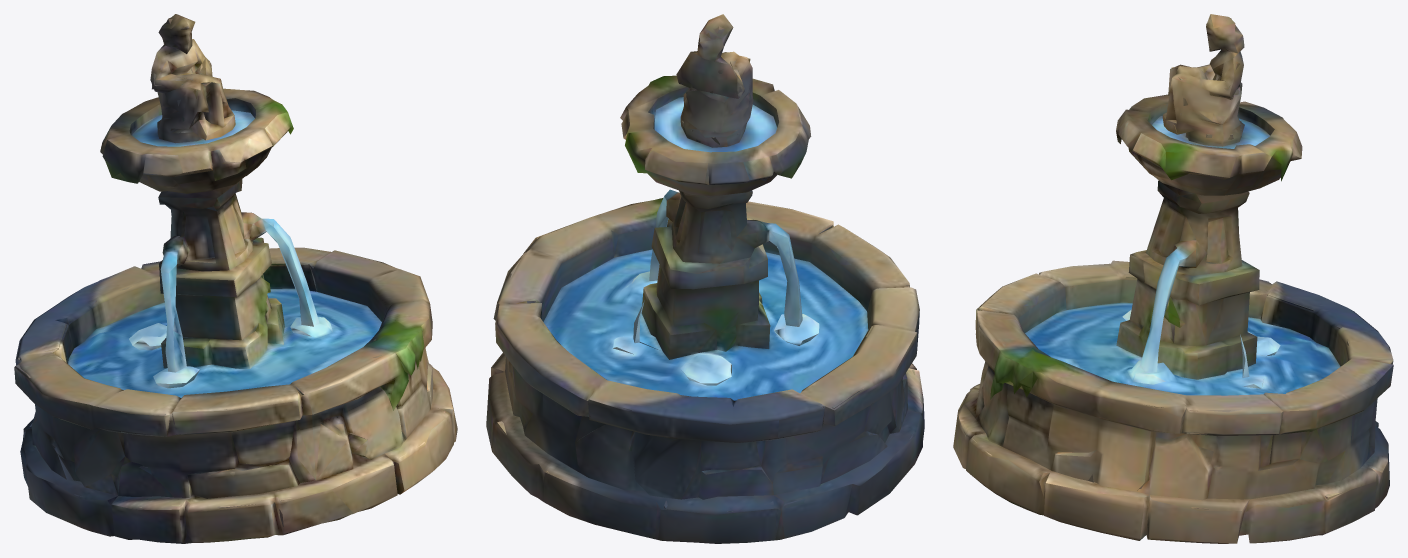
File: grandFountain.glb
3 views of the same model, side by side, from view 1: azimuth 30°, elevation 25°; view 2: azimuth 150°, elevation 25°; view 3: azimuth 270°, elevation 25° (orthographic).
Visible parts, largest first — view 1: RETOPO; view 2: RETOPO; view 3: RETOPO.
Part boxes in pixels (box(x1,y1,x2,y2)): RETOPO: box(14, 14, 457, 543); RETOPO: box(486, 14, 924, 543); RETOPO: box(953, 14, 1393, 543).
Bounding box in the file's own units: 0.708 × 0.8222 × 0.7111.
1 material, 1 textured.
